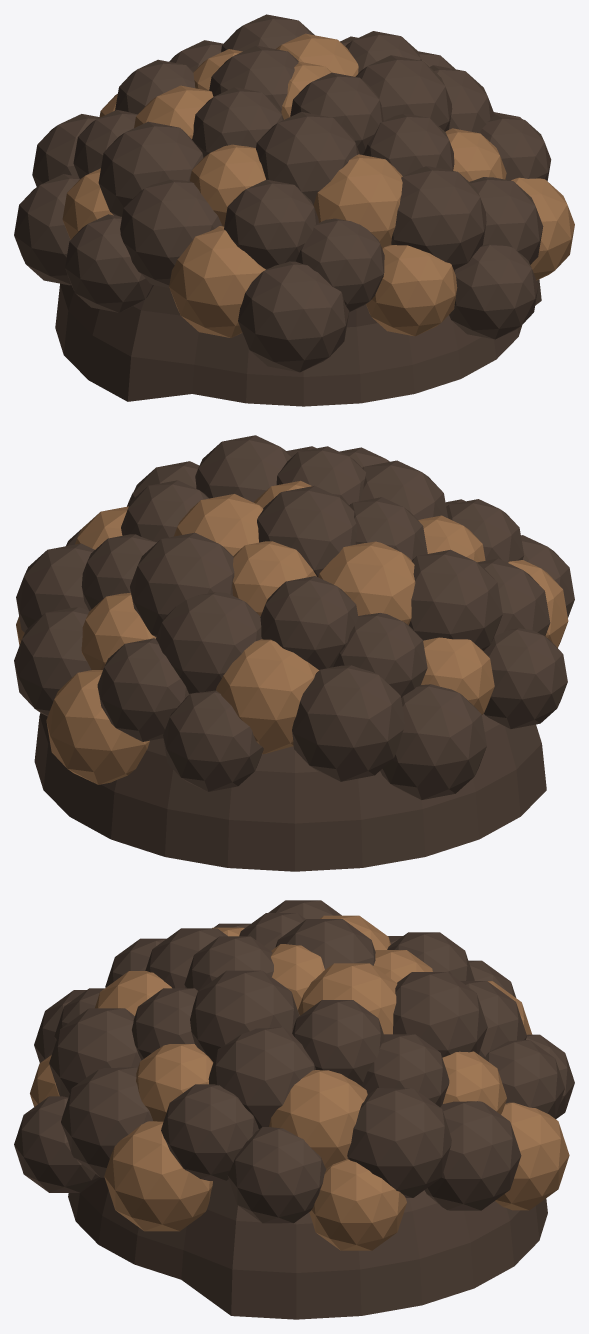
Rendered from hair_short_curls_coils_v1.glb.
The picture shows the model from 3 angles, top to bottom: view 1: azimuth 30°, elevation 25°; view 2: azimuth 150°, elevation 25°; view 3: azimuth 270°, elevation 25°; orthographic projection. The views are drawn at different scales.
Visible parts, largest first — view 1: hair_short_curls_coils_v1_LOD0; view 2: hair_short_curls_coils_v1_LOD0; view 3: hair_short_curls_coils_v1_LOD0.
Boxes of the visible parts, bbox=[...] form: hair_short_curls_coils_v1_LOD0: bbox=[14, 14, 574, 406]; hair_short_curls_coils_v1_LOD0: bbox=[14, 435, 574, 871]; hair_short_curls_coils_v1_LOD0: bbox=[14, 900, 574, 1319].
Bounding box in the file's own units: 0.6078 × 0.3396 × 0.6197.
